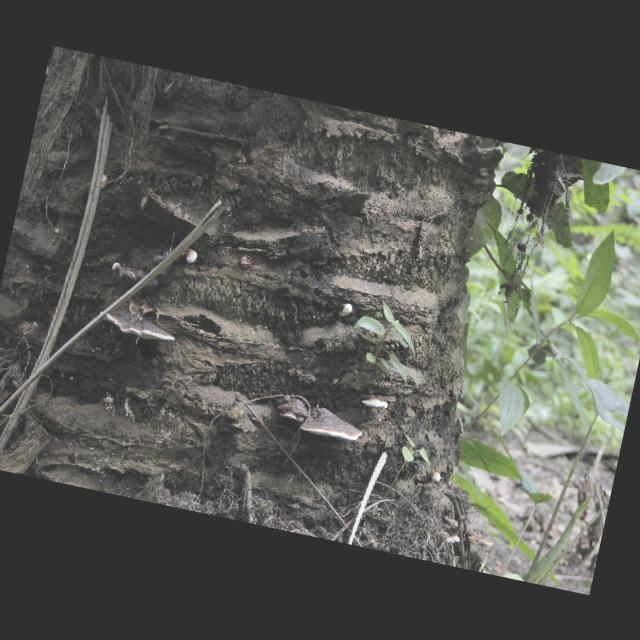ganoderma: (118, 239, 185, 297), (97, 304, 180, 347), (300, 405, 366, 445), (275, 395, 313, 425), (464, 528, 496, 550), (361, 395, 390, 412), (444, 528, 463, 546)
primordium: (337, 304, 354, 321), (184, 249, 200, 265), (428, 472, 442, 487), (100, 174, 109, 192), (112, 263, 122, 274)
